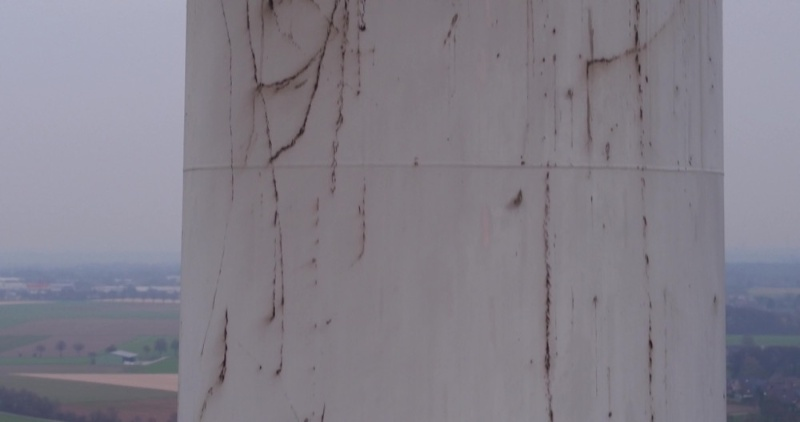weldseam: (182, 155, 729, 186)
